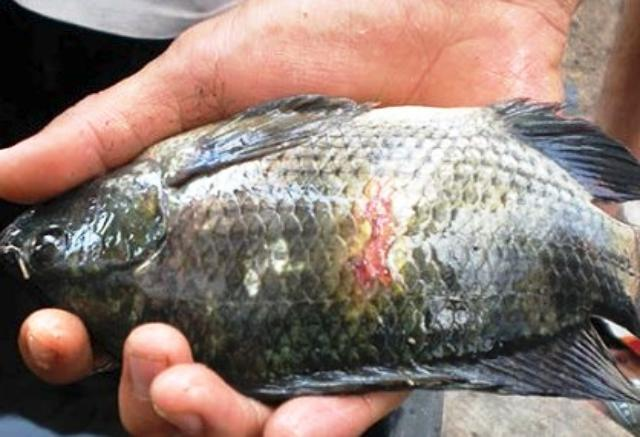Tilapia Lake Virus -TiLV-: (0, 96, 640, 403)
